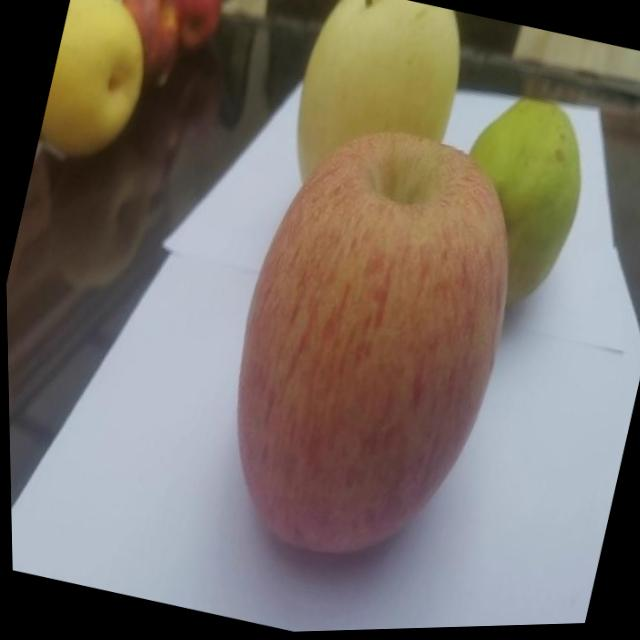Apple: (188, 105, 546, 591)
